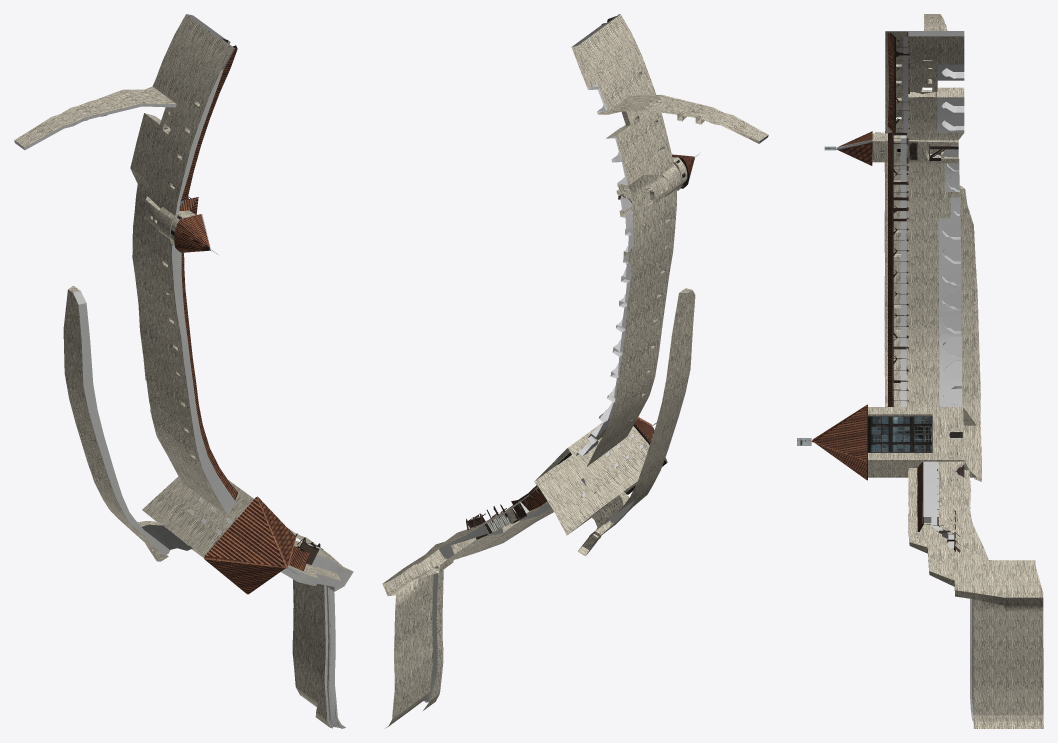
The model's file is Lyhike_jalg_9a_9b-origo.obj.
3 renders of one model, left to right at view 1: azimuth 30°, elevation 25°; view 2: azimuth 150°, elevation 25°; view 3: azimuth 270°, elevation 25°, orthographic. The views are drawn at different scales.
Parts seen in each view (by area): view 1: Lyhike_jalg_9a_9b; view 2: Lyhike_jalg_9a_9b; view 3: Lyhike_jalg_9a_9b.
Boxes of the visible parts, <box> form: Lyhike_jalg_9a_9b: <box>14,14,353,728</box>; Lyhike_jalg_9a_9b: <box>382,14,768,728</box>; Lyhike_jalg_9a_9b: <box>797,14,1043,728</box>.
Size of the model in its own units: 60.62 by 124 by 44.01.
